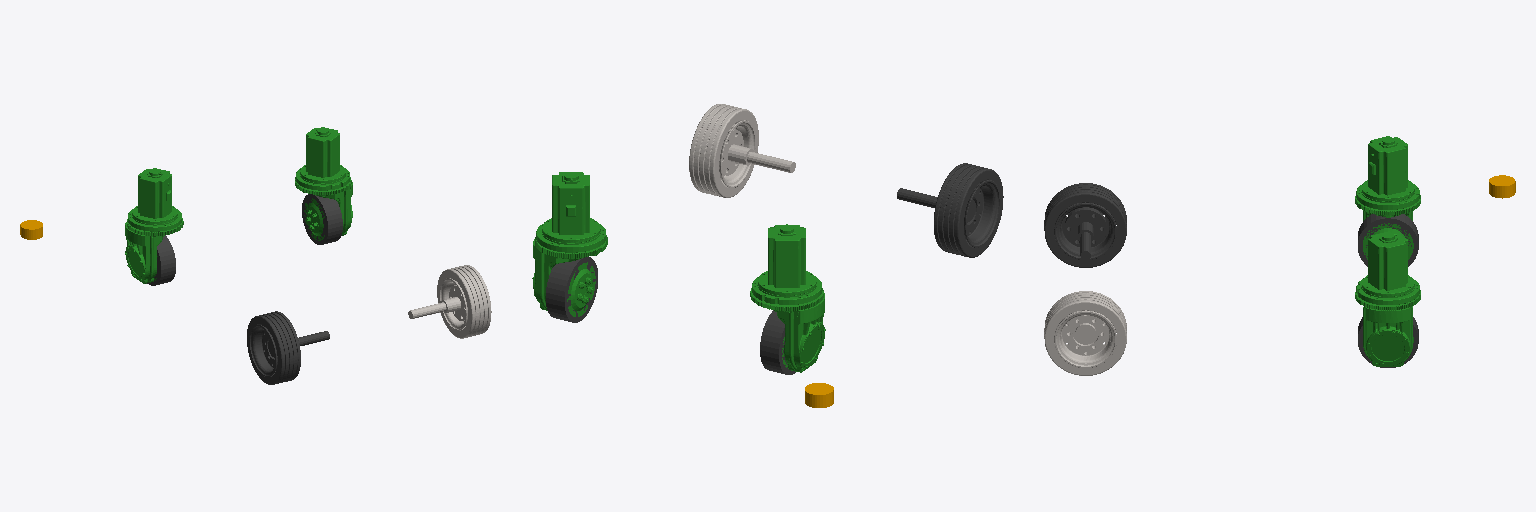
The robot description file, URDF, robot "sw5":
<?xml version="1.0" encoding="utf-8"?>
<!-- This URDF was automatically created by SolidWorks to URDF Exporter! Originally created by [author] ([email redacted]) 
     Commit Version: 1.6.0-1-g15f4949  Build Version: 1.6.7594.29634
     For more information, please see http://wiki.ros.org/sw_urdf_exporter -->
<robot
  name="sw5">
	<link name="base_footprint">
            <visual>
                <origin xyz="0 0 0" rpy="0 0 0" />
                <geometry>
                    <box size="0.001 0.001 0.001" />
                </geometry>
            </visual>
        </link>
        <gazebo reference="base_footprint">
            <turnGravityOff>false</turnGravityOff>
        </gazebo>

        <joint name="base_footprint_joint" type="fixed">
            <origin xyz="0 0 0.297" rpy="0 0 0" />        
            <parent link="base_footprint"/>
            <child link="base_link" />
        </joint>
  <link
    name="base_link">
    <inertial>
      <origin
        xyz="0.0383023712403095 -0.0437317199924381 0.588985188553231"
        rpy="0 0 0" />
      <mass
        value="1.73142592952" />
      <inertia
        ixx="762.703138818029"
        ixy="-70.4565792419025"
        ixz="-27.8150344559165"
        iyy="386.536579910933"
        iyz="-47.3856450616858"
        izz="733.348011239194" />
    </inertial>
    <visual>
      <origin
        xyz="0 0 0"
        rpy="0 0 0" />
      <geometry>
        <mesh
          filename="package://sw5/meshes/base_link.STL" />
      </geometry>
      <material
        name="">
        <color
          rgba="0.752941176470588 0.752941176470588 0.752941176470588 1" />
      </material>
    </visual>
    <collision>
      <origin
        xyz="0 0 0"
        rpy="0 0 0" />
      <geometry>
        <mesh
          filename="package://sw5/meshes/base_link.STL" />
      </geometry>
    </collision>
  </link>
  <link
    name="link5">
    <inertial>
      <origin
        xyz="-0.00855218437734295 -0.000215947111778525 -0.0232969271778171"
        rpy="0 0 0" />
      <mass
        value="9.1090791552902" />
      <inertia
        ixx="0.196346756691768"
        ixy="9.71138613000266E-05"
        ixz="-0.00773055138956243"
        iyy="0.192856777781797"
        iyz="0.000216205447222131"
        izz="0.0444245385646609" />
    </inertial>
    <visual>
      <origin
        xyz="0 0 0"
        rpy="0 0 0" />
      <geometry>
        <mesh
          filename="package://sw5/meshes/link5.STL" />
      </geometry>
      <material
        name="">
        <color
          rgba="0.2 0.6 0.2 1" />
      </material>
    </visual>
    <collision>
      <origin
        xyz="0 0 0"
        rpy="0 0 0" />
      <geometry>
        <mesh
          filename="package://sw5/meshes/link5.STL" />
      </geometry>
    </collision>
  </link>
  <joint
    name="joint5"
    type="revolute">
    <origin
      xyz="-0.425 0.57 0.1335"
      rpy="0 0 0" />
    <parent
      link="base_link" />
    <child
      link="link5" />
    <axis
      xyz="0 0 1" />
    <limit
      lower="-0.7"
      upper="0.7"
      effort="1000"
      velocity="100" />
  </joint>
  <link
    name="link1">
    <inertial>
      <origin
        xyz="-5.55111512312578E-17 0 0"
        rpy="0 0 0" />
      <mass
        value="3.85107602907504" />
      <inertia
        ixx="0.0256871584984341"
        ixy="9.49863985026229E-17"
        ixz="-4.01653580892973E-18"
        iyy="0.014648771137846"
        iyz="-3.50756338770281E-32"
        izz="0.014648771137846" />
    </inertial>
    <visual>
      <origin
        xyz="0 0 0"
        rpy="0 0 0" />
      <geometry>
        <mesh
          filename="package://sw5/meshes/link1.STL" />
      </geometry>
      <material
        name="">
        <color
          rgba="0.298039215686275 0.298039215686275 0.298039215686275 1" />
      </material>
    </visual>
    <collision>
      <origin
        xyz="0 0 0"
        rpy="0 0 0" />
      <geometry>
        <mesh
          filename="package://sw5/meshes/link1.STL" />
      </geometry>
    </collision>
  </link>
  <joint
    name="joint1"
    type="continuous">
    <origin
      xyz="0.003 0 -0.186"
      rpy="0 0 0" />
    <parent
      link="link5" />
    <child
      link="link1" />
    <axis
      xyz="-1 0 0" />
<limit effort="10000" velocity="1000" />
  </joint>
  <link
    name="link6">
    <inertial>
      <origin
        xyz="0.0085522035091305 0.000215918564818507 -0.0232968554512045"
        rpy="0 0 0" />
      <mass
        value="9.10907597533542" />
      <inertia
        ixx="0.196346646119776"
        ixy="9.71234675192921E-05"
        ixz="0.00773057931498471"
        iyy="0.192856644752228"
        iyz="-0.000216243546921578"
        izz="0.0444245683812515" />
    </inertial>
    <visual>
      <origin
        xyz="0 0 0"
        rpy="0 0 0" />
      <geometry>
        <mesh
          filename="package://sw5/meshes/link6.STL" />
      </geometry>
      <material
        name="">
        <color
          rgba="0.2 0.6 0.2 1" />
      </material>
    </visual>
    <collision>
      <origin
        xyz="0 0 0"
        rpy="0 0 0" />
      <geometry>
        <mesh
          filename="package://sw5/meshes/link6.STL" />
      </geometry>
    </collision>
  </link>
  <joint
    name="joint6"
    type="revolute">
    <origin
      xyz="0.425 0.57 0.1335"
      rpy="0 0 0" />
    <parent
      link="base_link" />
    <child
      link="link6" />
    <axis
      xyz="0 0 1" />
    <limit
      lower="-0.7"
      upper="0.7"
      effort="1000"
      velocity="100" />
  </joint>
  <link
    name="link2">
    <inertial>
      <origin
        xyz="0 0 0"
        rpy="0 0 0" />
      <mass
        value="3.85107602907504" />
      <inertia
        ixx="0.0256871584984341"
        ixy="9.67550076512508E-17"
        ixz="-3.12984869371643E-18"
        iyy="0.014648771137846"
        iyz="-2.76468622077682E-32"
        izz="0.014648771137846" />
    </inertial>
    <visual>
      <origin
        xyz="0 0 0"
        rpy="0 0 0" />
      <geometry>
        <mesh
          filename="package://sw5/meshes/link2.STL" />
      </geometry>
      <material
        name="">
        <color
          rgba="0.298039215686275 0.298039215686275 0.298039215686275 1" />
      </material>
    </visual>
    <collision>
      <origin
        xyz="0 0 0"
        rpy="0 0 0" />
      <geometry>
        <mesh
          filename="package://sw5/meshes/link2.STL" />
      </geometry>
    </collision>
  </link>
  <joint
    name="joint2"
    type="continuous">
    <origin
      xyz="-0.003 0 -0.186"
      rpy="0 0 0" />
    <parent
      link="link6" />
    <child
      link="link2" />
    <axis
      xyz="-1 0 0" />
<limit effort="10000" velocity="1000" />
  </joint>
  <link
    name="link3">
    <inertial>
      <origin
        xyz="0.0283915349256037 -7.80766484798079E-09 0"
        rpy="0 0 0" />
      <mass
        value="16.7890857367422" />
      <inertia
        ixx="0.13535034711202"
        ixy="9.41328414285563E-08"
        ixz="-2.78581026895213E-15"
        iyy="0.132941775874745"
        iyz="3.77575702835412E-17"
        izz="0.132924208864018" />
    </inertial>
    <visual>
      <origin
        xyz="0 0 0"
        rpy="0 0 0" />
      <geometry>
        <mesh
          filename="package://sw5/meshes/link3.STL" />
      </geometry>
      <material
        name="">
        <color
          rgba="0.298039215686275 0.298039215686275 0.298039215686275 1" />
      </material>
    </visual>
    <collision>
      <origin
        xyz="0 0 0"
        rpy="0 0 0" />
      <geometry>
        <mesh
          filename="package://sw5/meshes/link3.STL" />
      </geometry>
    </collision>
  </link>
  <joint
    name="joint3"
    type="continuous">
    <origin
      xyz="-0.4815 -0.57 -0.012"
      rpy="0 0 0" />
    <parent
      link="base_link" />
    <child
      link="link3" />
    <axis
      xyz="-1 0 0" />
  </joint>
  <link
    name="link4">
    <inertial>
      <origin
        xyz="-0.028391534925604 7.8076651810477E-09 1.11022302462516E-16"
        rpy="0 0 0" />
      <mass
        value="16.7890857367421" />
      <inertia
        ixx="0.135350347112019"
        ixy="9.41328420204971E-08"
        ixz="2.80296919073691E-15"
        iyy="0.132941775874745"
        iyz="-5.36969523482869E-18"
        izz="0.132924208864018" />
    </inertial>
    <visual>
      <origin
        xyz="0 0 0"
        rpy="0 0 0" />
      <geometry>
        <mesh
          filename="package://sw5/meshes/link4.STL" />
      </geometry>
      <material
        name="">
        <color
          rgba="0.776470588235294 0.756862745098039 0.737254901960784 1" />
      </material>
    </visual>
    <collision>
      <origin
        xyz="0 0 0"
        rpy="0 0 0" />
      <geometry>
        <mesh
          filename="package://sw5/meshes/link4.STL" />
      </geometry>
    </collision>
  </link>
  <joint
    name="joint4"
    type="continuous">
    <origin
      xyz="0.4815 -0.57 -0.012"
      rpy="0 0 0" />
    <parent
      link="base_link" />
    <child
      link="link4" />
    <axis
      xyz="1 0 0" />
  </joint>


        <gazebo reference="base_link">
            <material>Gazebo/Blue</material>
        </gazebo>
        <gazebo reference="link1">
            <material>Gazebo/Black</material>
        </gazebo>
        <gazebo reference="link2">
            <material>Gazebo/Black</material>
        </gazebo>
        <gazebo reference="link3">
            <material>Gazebo/Black</material>
        </gazebo>
        <gazebo reference="link4">
            <material>Gazebo/Black</material>
        </gazebo>
	<gazebo reference="link5">
            <material>Gazebo/Red</material>
        </gazebo>
	<gazebo reference="link6">
            <material>Gazebo/Red</material>
        </gazebo>



  <transmission name="joint1_transmission" type="SimpleTransmission">
    <type>transmission_interface/SimpleTransmission</type>
    <joint name="joint1">
      <hardwareInterface>hardware_interface/EffortJointInterface</hardwareInterface>
    </joint>
    <actuator name="joint1_motor">
      <hardwareInterface>hardware_interface/EffortJointInterface</hardwareInterface>
      <mechanicalReduction>1</mechanicalReduction>
    </actuator>
  </transmission>

  <transmission name="joint2_transmission" type="SimpleTransmission">
    <type>transmission_interface/SimpleTransmission</type>
    <joint name="joint2">
      <hardwareInterface>hardware_interface/EffortJointInterface</hardwareInterface>
    </joint>
    <actuator name="joint2_motor">
      <hardwareInterface>hardware_interface/EffortJointInterface</hardwareInterface>
      <mechanicalReduction>1</mechanicalReduction>
    </actuator>
  </transmission>


  <transmission name="joint5_transmission" type="SimpleTransmission">
    <type>transmission_interface/SimpleTransmission</type>
    <joint name="joint5">
      <hardwareInterface>hardware_interface/EffortJointInterface</hardwareInterface>
    </joint>
    <actuator name="joint5_motor">
      <hardwareInterface>hardware_interface/EffortJointInterface</hardwareInterface>
      <mechanicalReduction>1</mechanicalReduction>
    </actuator>
  </transmission>

  <transmission name="joint6_transmission" type="SimpleTransmission">
    <type>transmission_interface/SimpleTransmission</type>
    <joint name="joint6">
      <hardwareInterface>hardware_interface/EffortJointInterface</hardwareInterface>
    </joint>
    <actuator name="joint6_motor">
      <hardwareInterface>hardware_interface/EffortJointInterface</hardwareInterface>
      <mechanicalReduction>1</mechanicalReduction>
    </actuator>
  </transmission>


        <!-- controller -->
	<gazebo>
  	<plugin name="gazebo_ros_control" filename="libgazebo_ros_control.so">
    	<robotNamespace>/racecar</robotNamespace>
    	<robotSimType>gazebo_ros_control/DefaultRobotHWSim</robotSimType>
    	<legacyModeNS>true</legacyModeNS>
  	</plugin>
	</gazebo>


        <link name="lidar_link1">
            <inertial>
                <mass value="0.1" />
                <origin xyz="0 0 0" />
                <inertia ixx="0.01" ixy="0.0" ixz="0.0"
                         iyy="0.01" iyz="0.0"
                         izz="0.01" />
            </inertial>

            <visual>
                <origin xyz=" 0 0 0 " rpy="0 0 0" />
                <geometry>
                    <cylinder length="0.05" radius="0.05"/>
                </geometry>
                <material name="black"/>
            </visual>

            <collision>
                <origin xyz="0.0 0.0 0.0" rpy="0 0 0" />
                <geometry>
                    <cylinder length="0.06" radius="0.05"/>
                </geometry>
            </collision>
        </link>

        <gazebo reference="lidar_link1">
            <material>Gazebo/Black</material>
        </gazebo>

	<joint
	    name="lidar_joint1"
	    type="fixed">
	    <origin
	      xyz="-0.8 1 0"
	      rpy="0 0 0" />
	    <parent
	      link="base_link" />
	    <child
	      link="lidar_link1" />
	</joint>

        <gazebo reference="lidar_link1">
            <sensor type="ray" name="rplidar">
                <pose>0 0 0 0 0 0</pose>
                <visualize>false</visualize>
                <update_rate>40</update_rate>
                <ray>
                    <scan>
                      <horizontal>
                        <samples>360</samples>
                        <resolution>1</resolution>
                        <min_angle>0</min_angle>
                        <max_angle>4.71</max_angle>
                      </horizontal>
                    </scan>
                    <range>
                      <min>0.10</min>
                      <max>10</max>
                      <resolution>0.01</resolution>
                    </range>
                    <noise>
                      <type>gaussian</type>
                      <mean>0.0</mean>
                      <stddev>0.01</stddev>
                    </noise>
                </ray>
                <plugin name="gazebo_rplidar" filename="libgazebo_ros_laser.so">
                    <topicName>/scan</topicName>
                    <frameName>lidar_link1</frameName>
                </plugin>
            </sensor>
        </gazebo>























</robot>

--- Render facts (derived) ---
The picture shows the robot from 3 angles, left to right: view 1: azimuth 30°, elevation 25°; view 2: azimuth 150°, elevation 25°; view 3: azimuth 270°, elevation 25°; orthographic projection.
Model sw5 with 9 links and 8 joints (2 revolute, 4 continuous, 2 fixed), rooted at base_footprint, posed all joints at 0.
Links seen in each view (by area): view 1: link5, link6, link3, link4, link2, link1; view 2: link5, link6, link4, link3, link2, link1, lidar_link1; view 3: link6, link3, link4, link5, link1, lidar_link1.
Boxes of the visible links, x1=… form: link5: x1=125, y1=168, x2=183, y2=283; link6: x1=295, y1=127, x2=352, y2=240; link3: x1=247, y1=311, x2=329, y2=384; link4: x1=408, y1=265, x2=491, y2=338; link2: x1=302, y1=194, x2=342, y2=244; link1: x1=147, y1=235, x2=175, y2=285; link5: x1=750, y1=224, x2=825, y2=372; link6: x1=532, y1=172, x2=607, y2=316; link4: x1=689, y1=104, x2=795, y2=197; link3: x1=897, y1=163, x2=1003, y2=257; link2: x1=546, y1=257, x2=597, y2=322; link1: x1=760, y1=310, x2=795, y2=374; lidar_link1: x1=805, y1=383, x2=833, y2=407; link6: x1=1355, y1=231, x2=1420, y2=366; link3: x1=1044, y1=183, x2=1126, y2=267; link4: x1=1044, y1=291, x2=1126, y2=375; link5: x1=1355, y1=136, x2=1420, y2=259; link1: x1=1358, y1=214, x2=1418, y2=266; lidar_link1: x1=1489, y1=175, x2=1515, y2=198.
Size in the robot's own frame: 1.4 by 1.78 by 0.6677 metres.
6 mesh visuals loaded from 7 distinct referenced files (6 binary STL); not drawn: 1 (reference not matched to a file when rendering).
